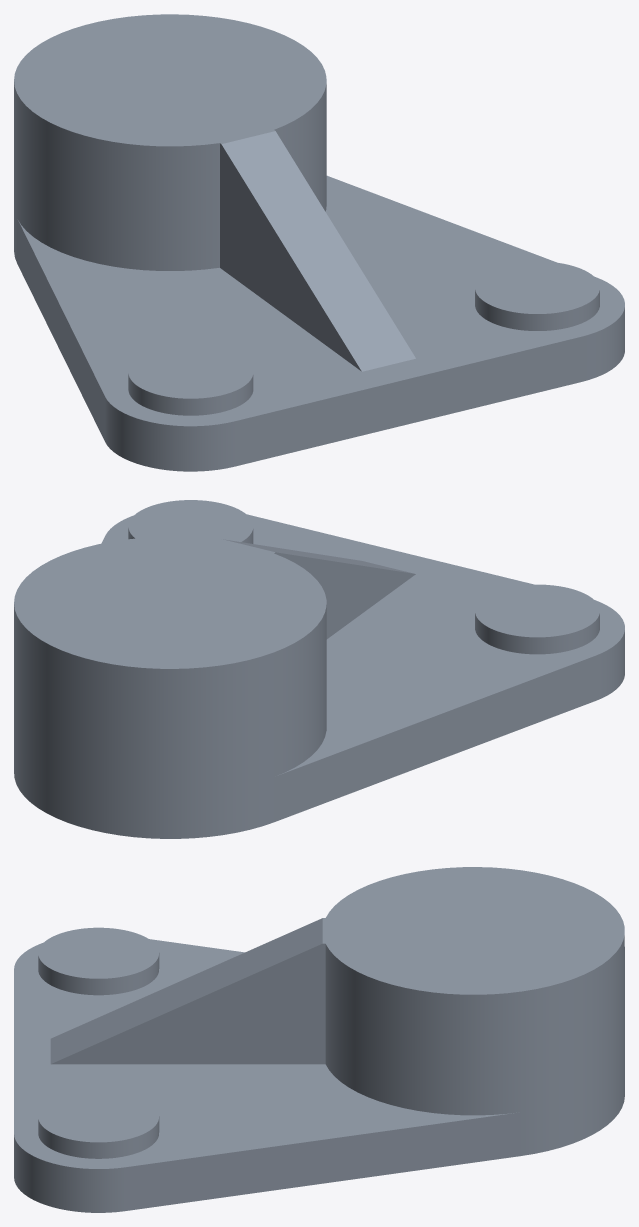
Rendered from step_05.glb.
3 views of the same model, one above another, from view 1: azimuth 30°, elevation 25°; view 2: azimuth 150°, elevation 25°; view 3: azimuth 270°, elevation 25° (orthographic). The views are drawn at different scales.
Parts seen in each view (by area): view 1: part__boss bracket; view 2: part__boss bracket; view 3: part__boss bracket.
Part boxes in pixels (x1,y1,x2,y2): part__boss bracket: (14,14,624,471); part__boss bracket: (14,500,624,838); part__boss bracket: (14,867,624,1212).
Size of the model in its own units: 91.99 by 30 by 101.
